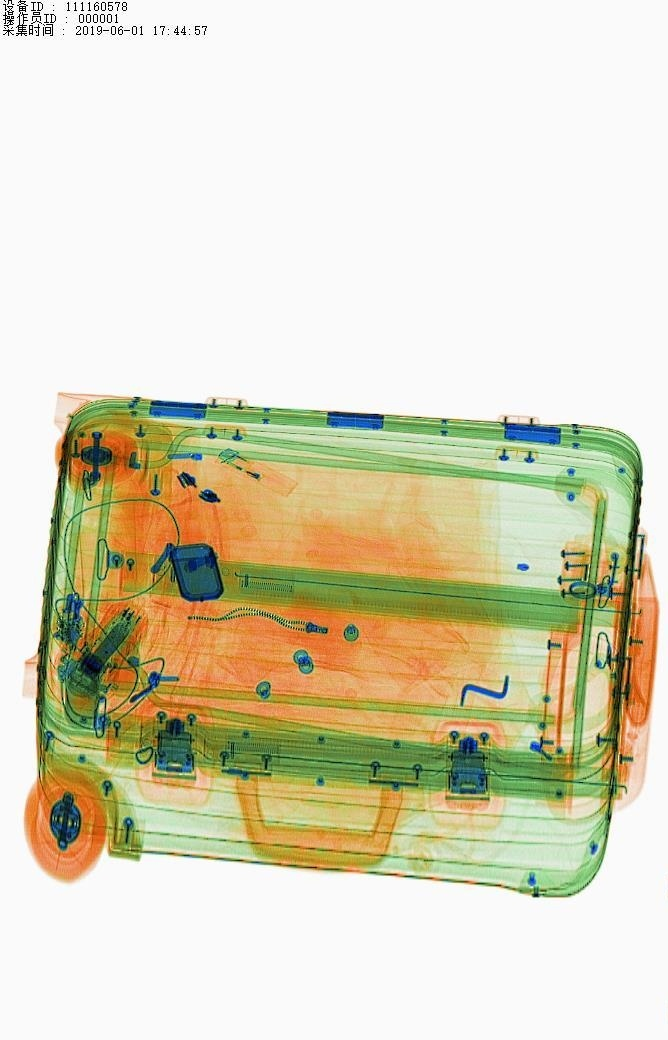NonmetallicFire: (208, 436, 319, 506)
